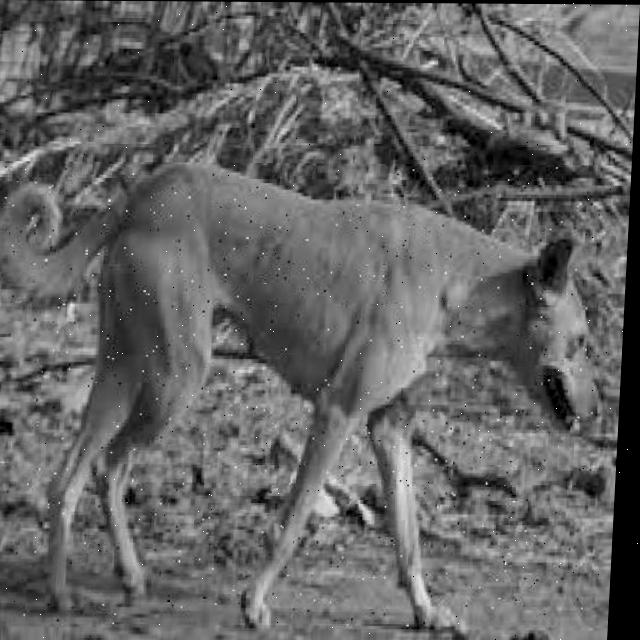Dog: (0, 161, 610, 631)
